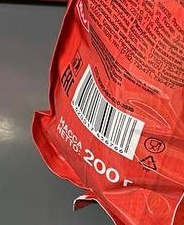1d: (73, 67, 137, 155)
